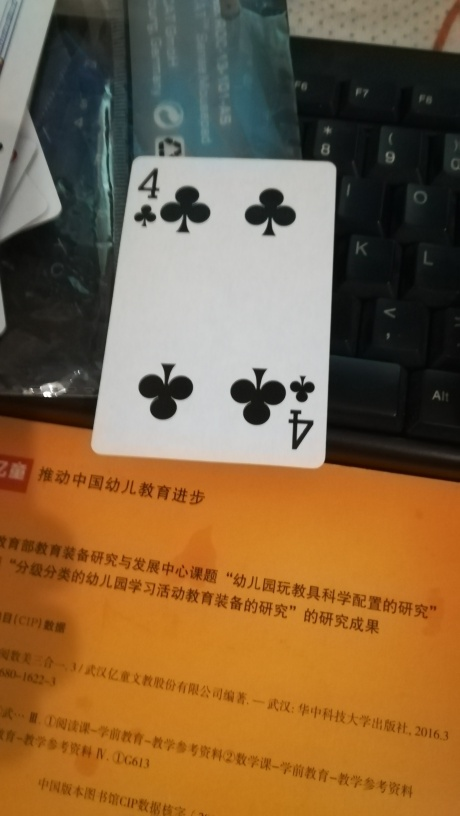mh 4: (91, 151, 337, 473)
